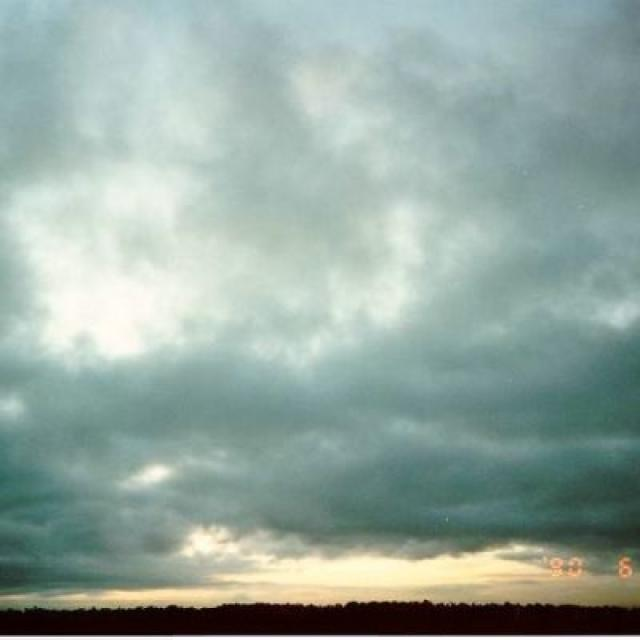St: (1, 4, 640, 489)
